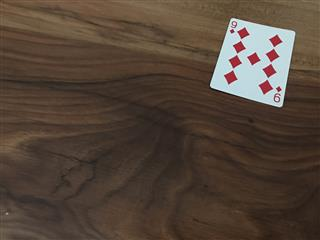NineOfDiamonds: (208, 16, 295, 107)
